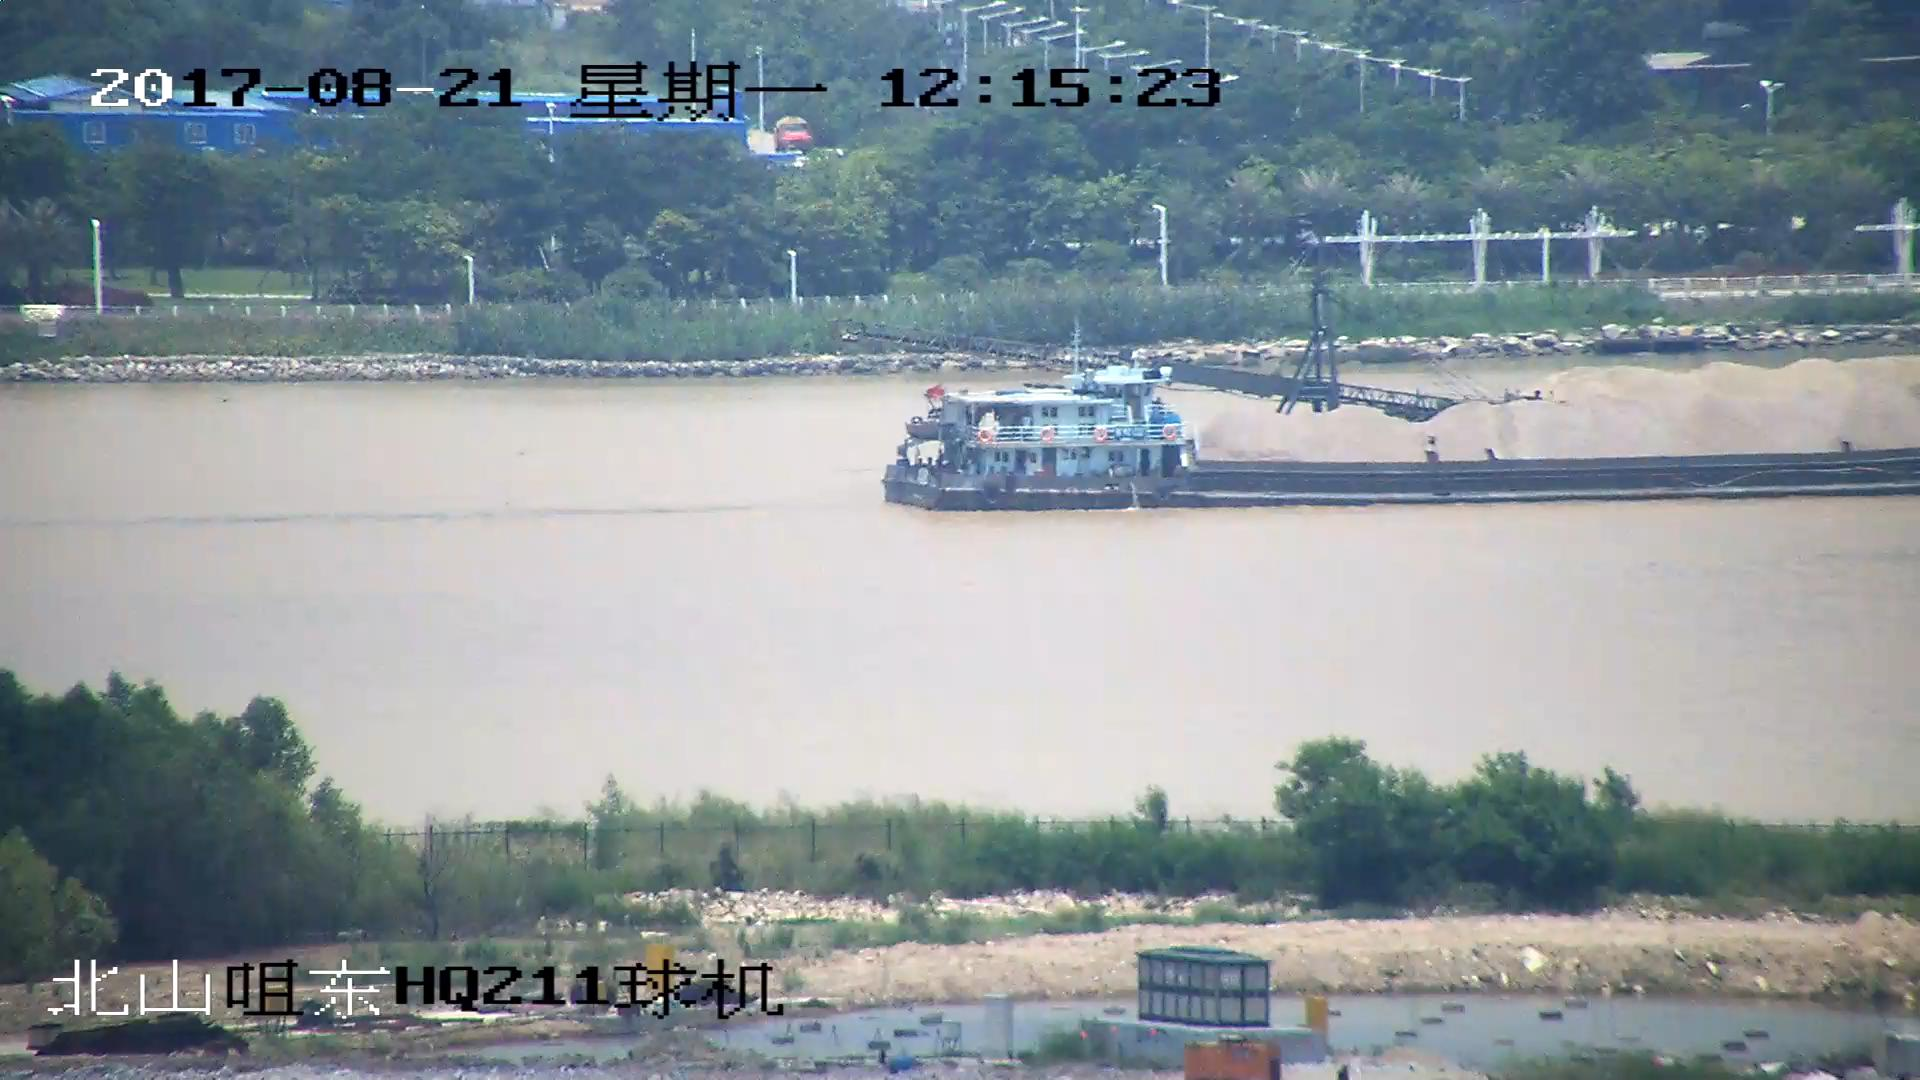ore carrier: (846, 294, 1919, 425), (879, 384, 1919, 502)
